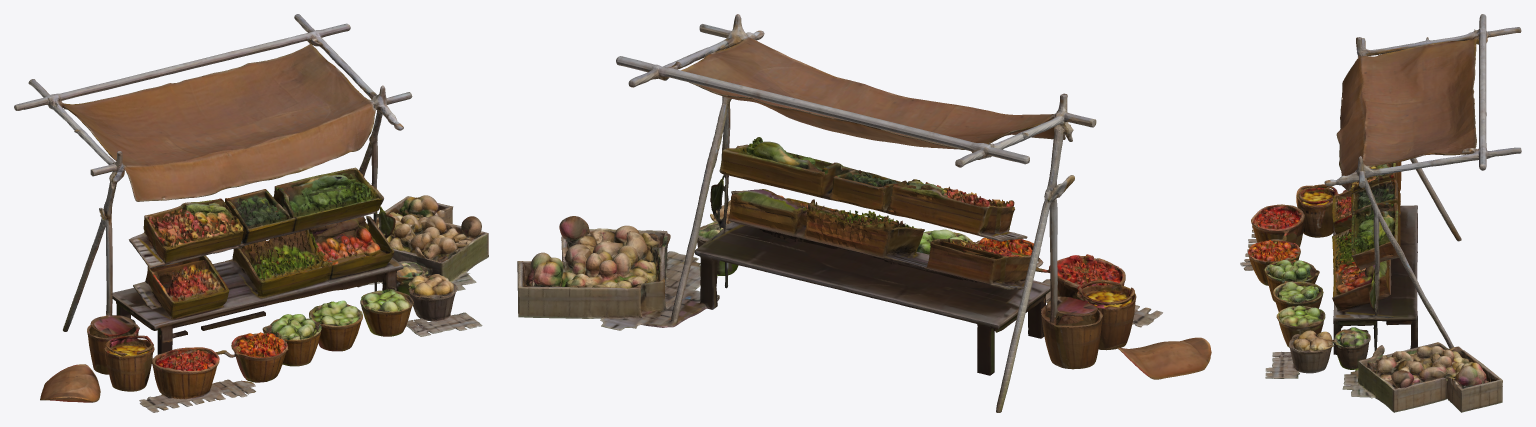
Rendered from Market_Stall_Display_0322084952_texture.fbx.
The picture shows the model from 3 angles, left to right: view 1: azimuth 30°, elevation 25°; view 2: azimuth 150°, elevation 25°; view 3: azimuth 270°, elevation 25°; orthographic projection. The views are drawn at different scales.
Visible parts, largest first — view 1: temp; view 2: temp; view 3: temp.
Boxes of the visible parts, bbox=[...] form: temp: bbox=[14, 14, 488, 412]; temp: bbox=[517, 14, 1211, 412]; temp: bbox=[1240, 14, 1521, 412].
Size of the model in its own units: 199 by 89.5 by 107.
1 material, 1 textured.
